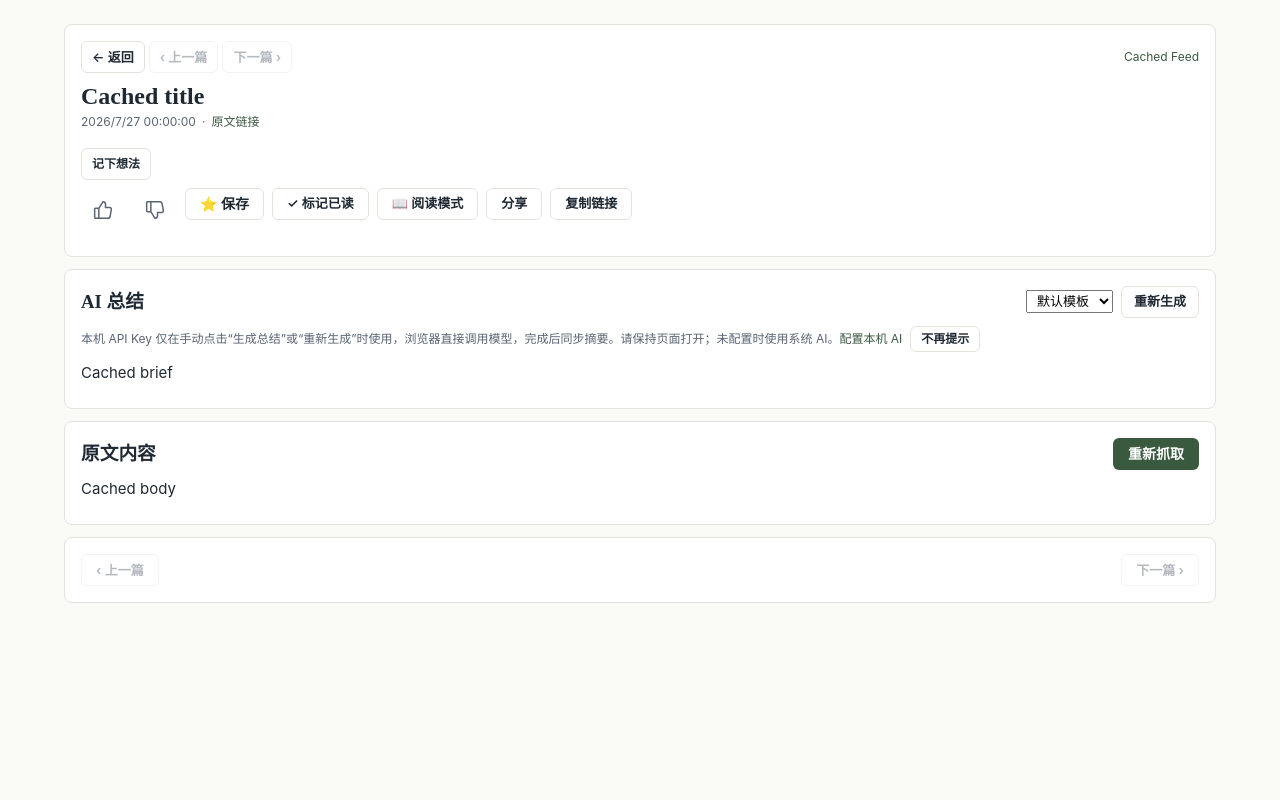
ArticlePage immediate loading › clears a disconnected stream warning when persisted completion is confirmed
Click the button "重新生成" at (1160,302), box top-left (1121, 286), bottom-right (1199, 318)
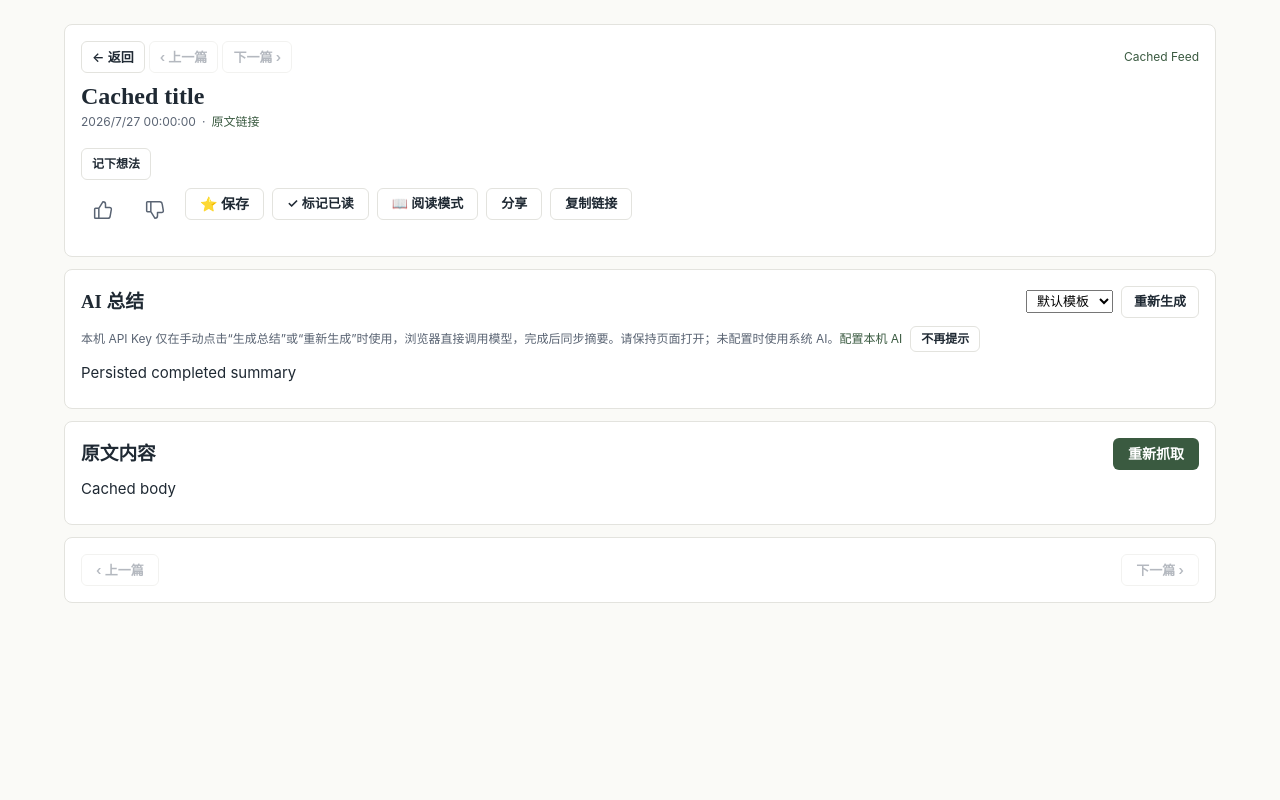
Check: the text "Persisted completed summary" is shown, box top-left (81, 363), bottom-right (296, 382)
